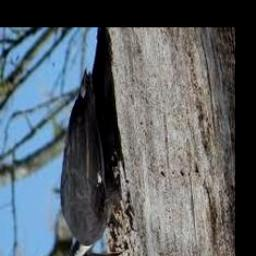Woodpecker: (51, 70, 125, 256)
